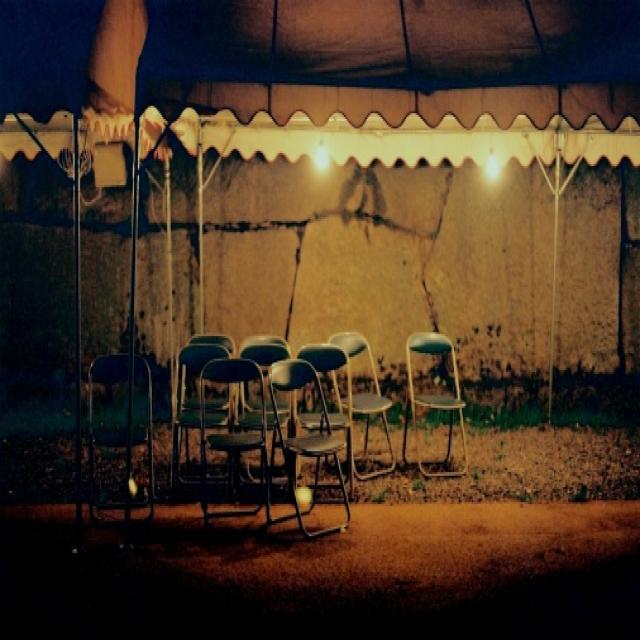chair: (268, 357, 365, 545), (193, 355, 274, 543), (80, 336, 158, 527), (399, 325, 479, 509), (318, 334, 399, 505), (297, 332, 371, 512), (173, 339, 240, 489)
